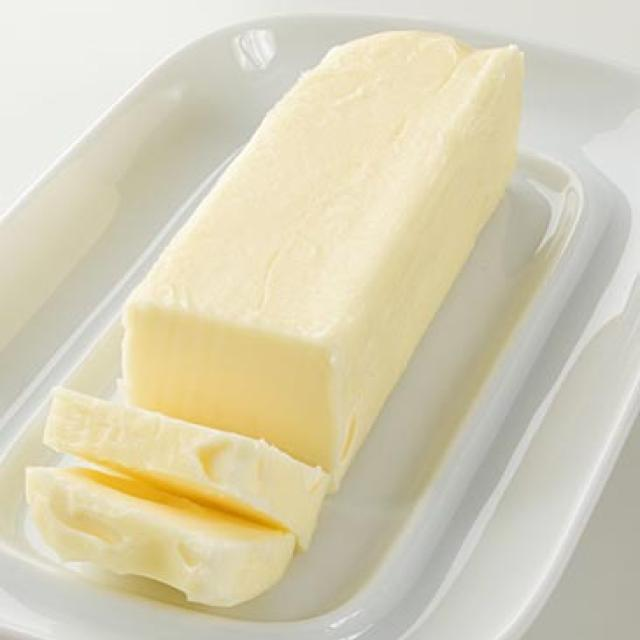Butter: (137, 34, 522, 471), (38, 388, 324, 562), (28, 453, 302, 616)
